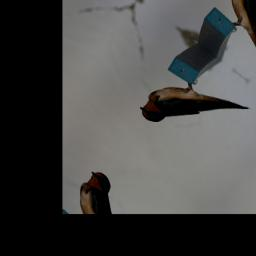Swallow: (133, 53, 252, 167)
